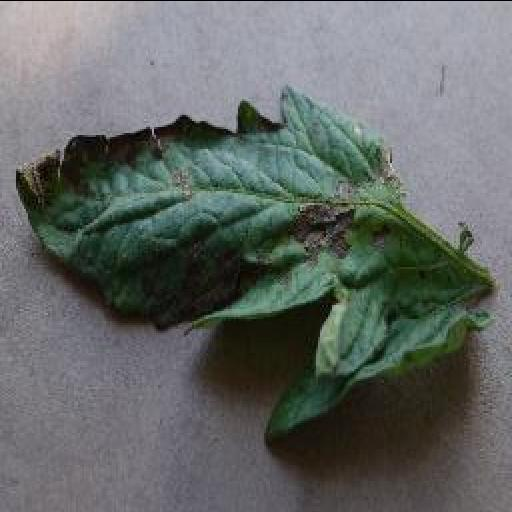disease_tomato: (11, 84, 497, 444)
